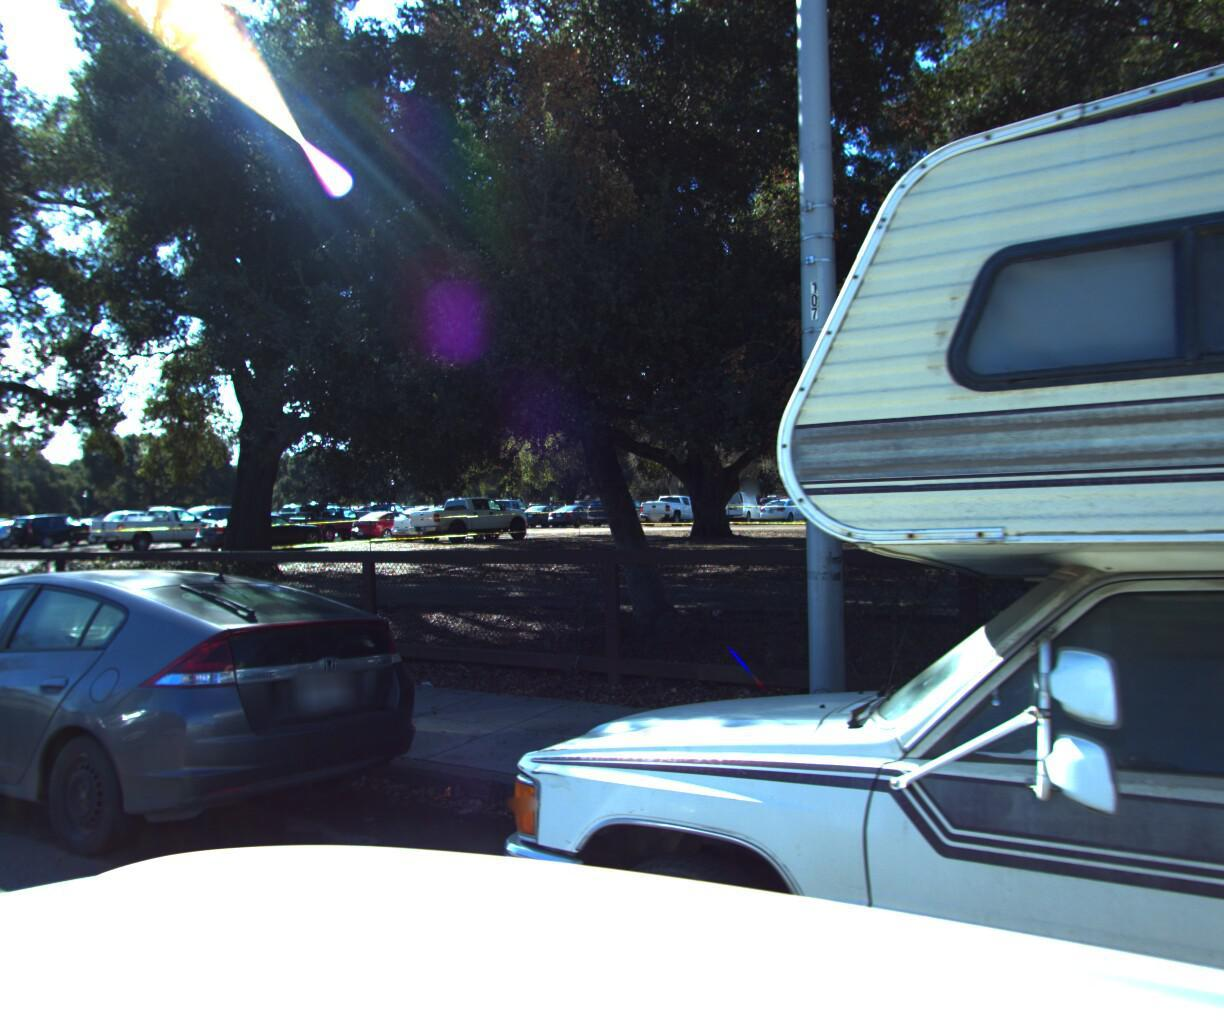car: (0, 549, 468, 937), (0, 539, 14, 763)
